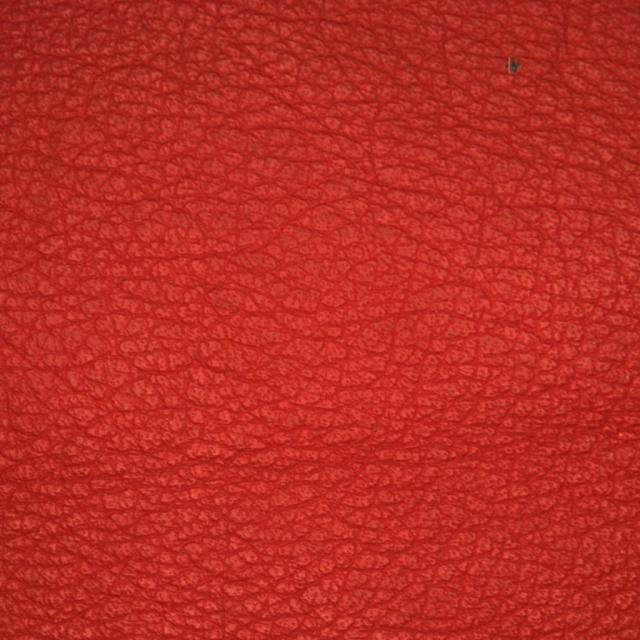Hole: (427, 29, 596, 171)
